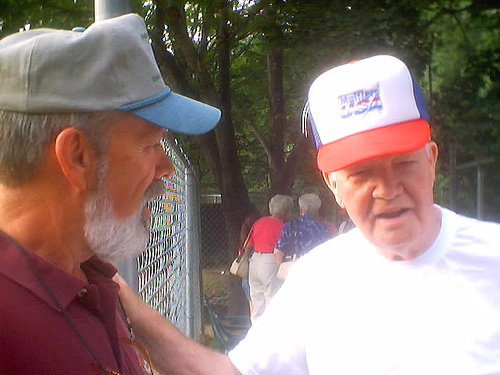without_mask: (23, 78, 216, 273), (302, 115, 475, 271)
